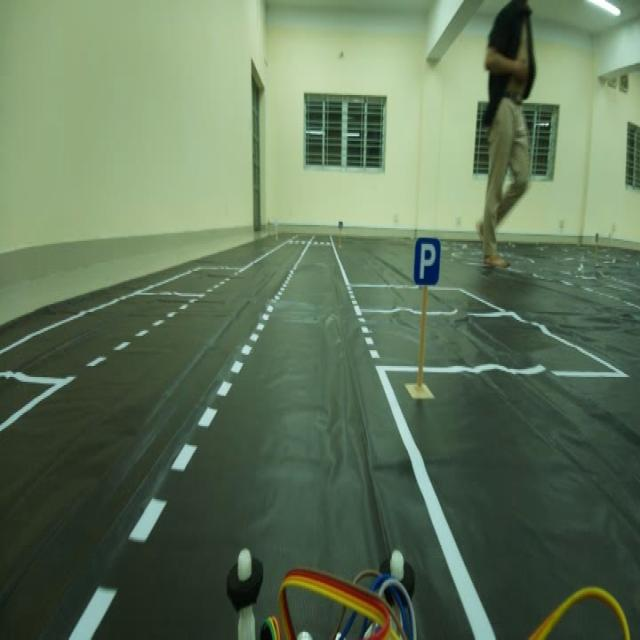parking: (413, 230, 447, 294)
